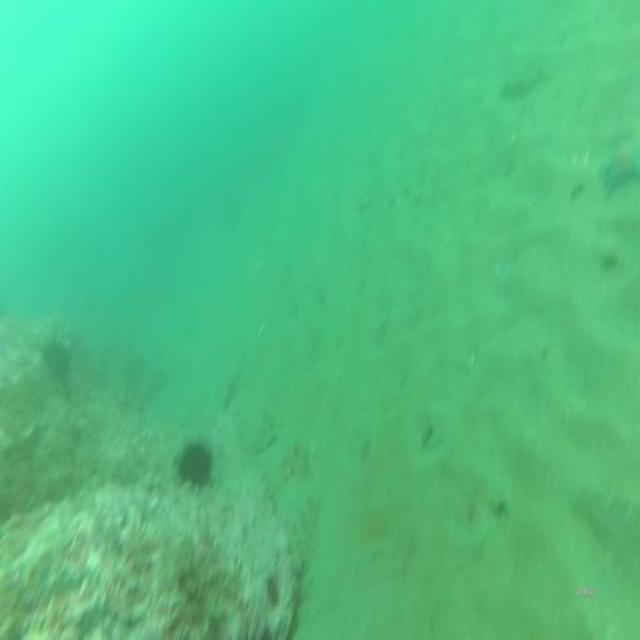echinus: (174, 435, 212, 496)
starfish: (597, 150, 640, 198)
